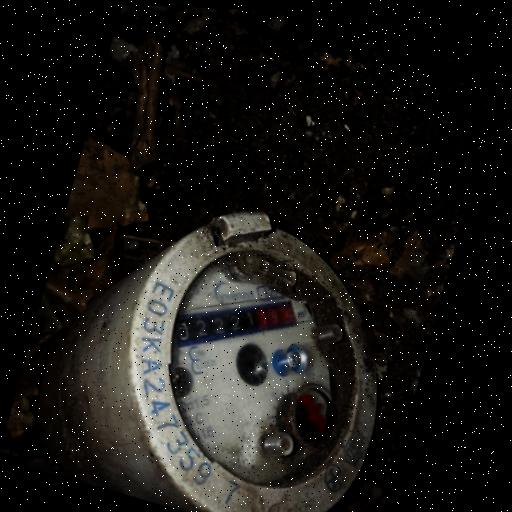0: (167, 312, 200, 348)
1: (273, 298, 300, 326), (238, 304, 264, 333), (252, 303, 276, 331)
2: (185, 310, 218, 345), (220, 304, 252, 337), (203, 308, 234, 342)
9: (262, 301, 287, 329)
border_water_meter_number: (160, 258, 311, 381)
